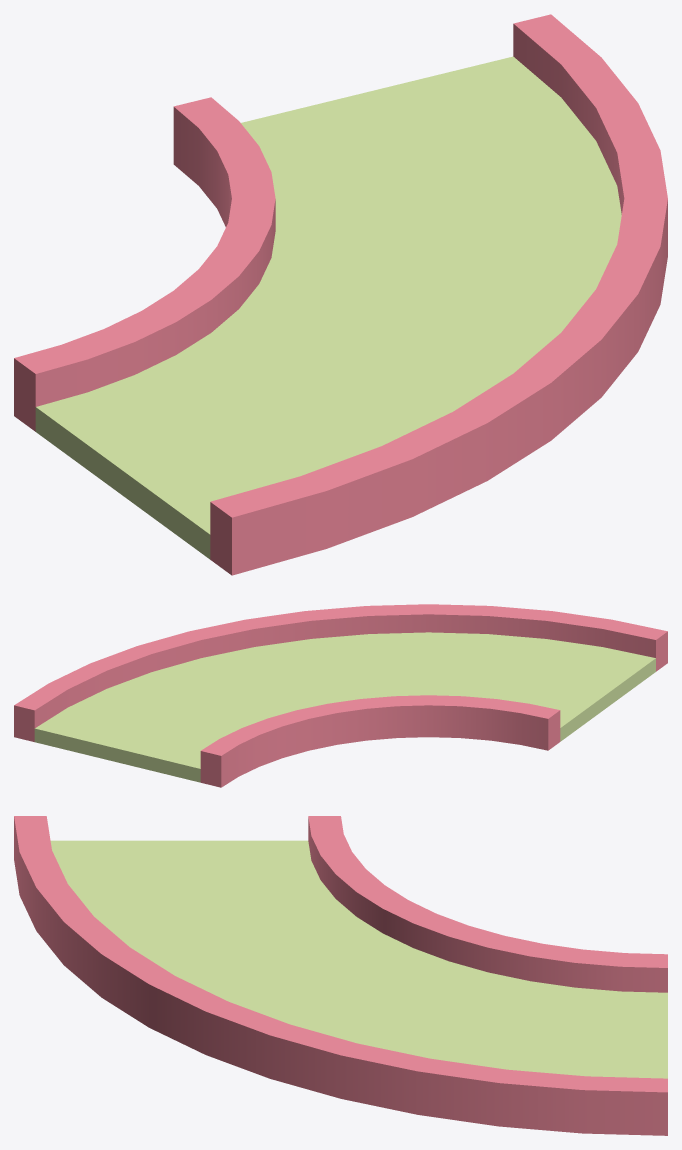
Rendered from roundLargeCorner.fbx.
The picture shows the model from 3 angles, top to bottom: view 1: azimuth 30°, elevation 25°; view 2: azimuth 150°, elevation 25°; view 3: azimuth 270°, elevation 25°; orthographic projection. The views are drawn at different scales.
Parts seen in each view (by area): view 1: roundLargeCorner; view 2: roundLargeCorner; view 3: roundLargeCorner.
Boxes of the visible parts, <box> form: roundLargeCorner: <box>14,14,667,575</box>; roundLargeCorner: <box>14,604,667,787</box>; roundLargeCorner: <box>14,816,667,1135</box>.
Bounding box in the file's own units: 200 × 14.67 × 200.
